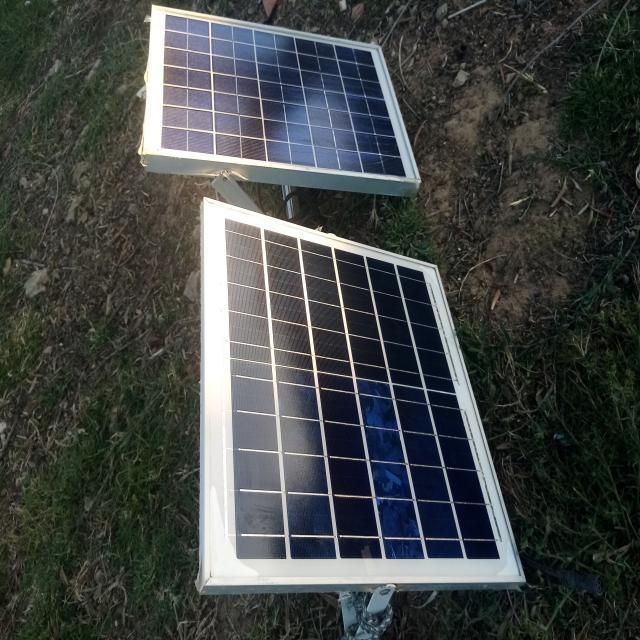no faulty: (205, 203, 523, 585), (145, 4, 417, 178)
